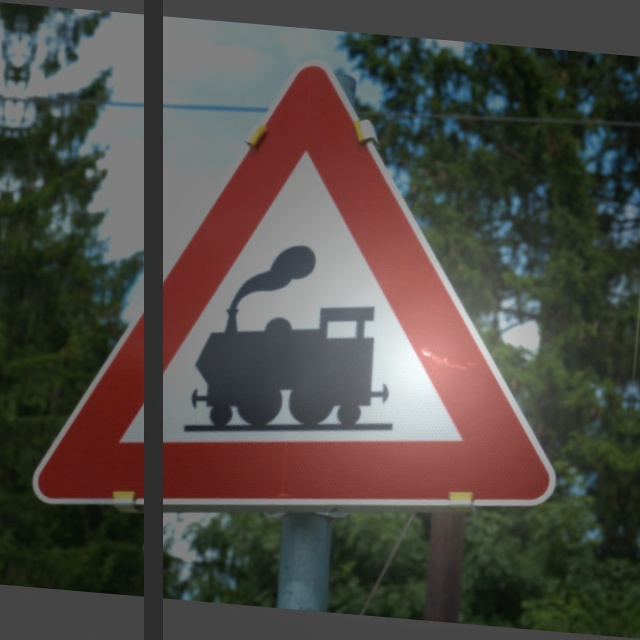Unguarded_Level_Crossing: (51, 46, 576, 531)
